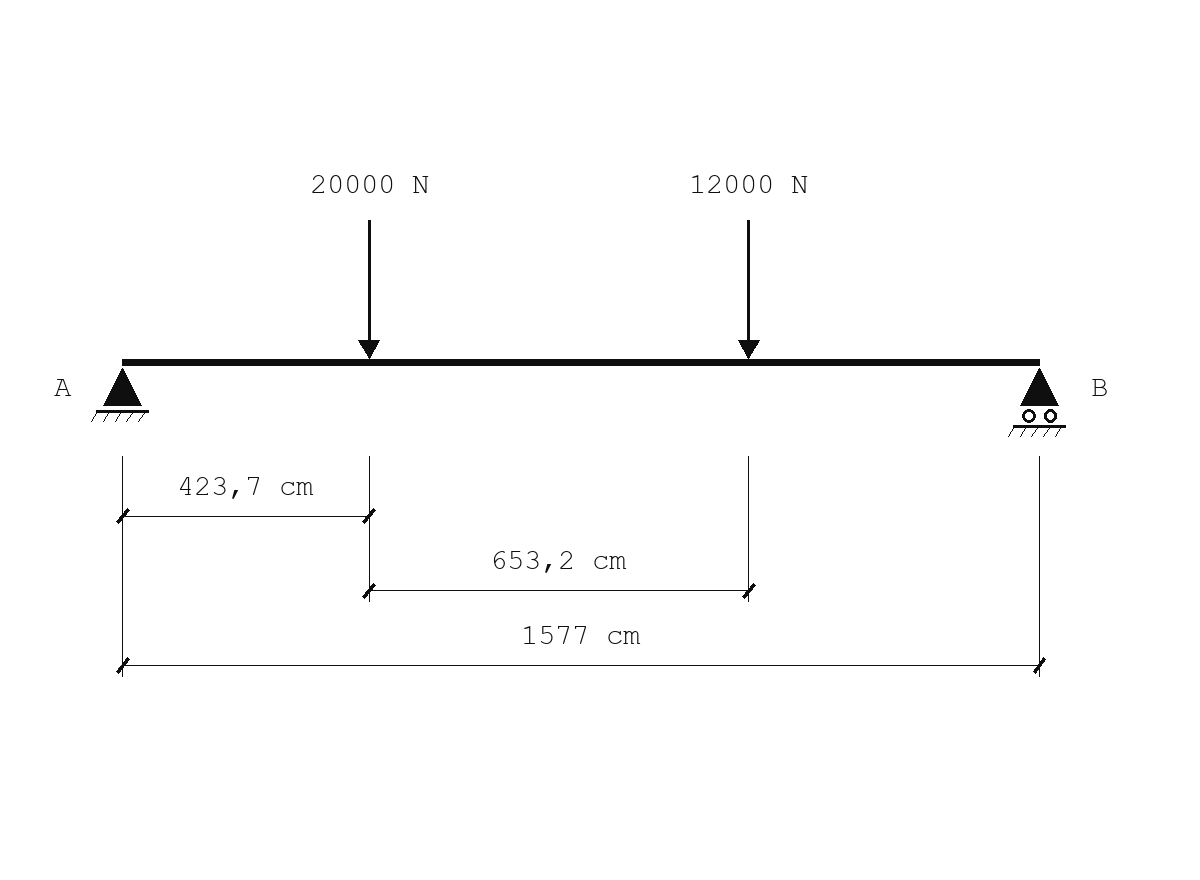pin_support: (91, 368, 149, 422)
point_load: (358, 220, 380, 359), (738, 220, 760, 359)
roller_support: (1008, 368, 1066, 437)
